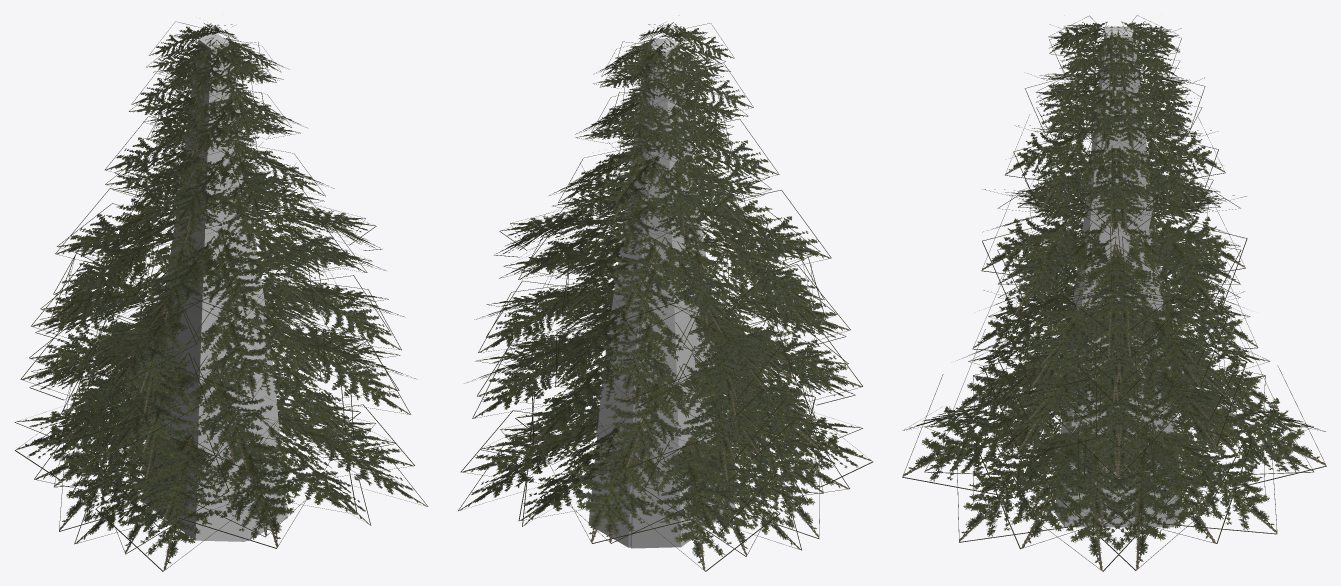
The model's file is tree4Props.fbx.
The picture shows the model from 3 angles, left to right: view 1: azimuth 30°, elevation 25°; view 2: azimuth 150°, elevation 25°; view 3: azimuth 270°, elevation 25°; orthographic projection.
Parts seen in each view (by area): view 1: Cube.054; view 2: Cube.054; view 3: Cube.054.
Part boxes in pixels (box(x1,y1,x2,y2)): Cube.054: box(14, 21, 428, 571); Cube.054: box(458, 22, 872, 571); Cube.054: box(902, 15, 1326, 571).
Size of the model in its own units: 818 by 1177 by 926.
